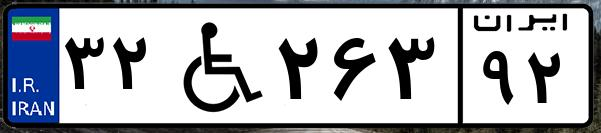2: (270, 28, 330, 110), (525, 38, 570, 115), (110, 28, 158, 98)
3: (385, 28, 445, 110), (57, 26, 110, 100)
6: (330, 28, 385, 110)
9: (475, 38, 525, 113)
ژ (معلولین و جانبازان): (158, 12, 270, 120)
